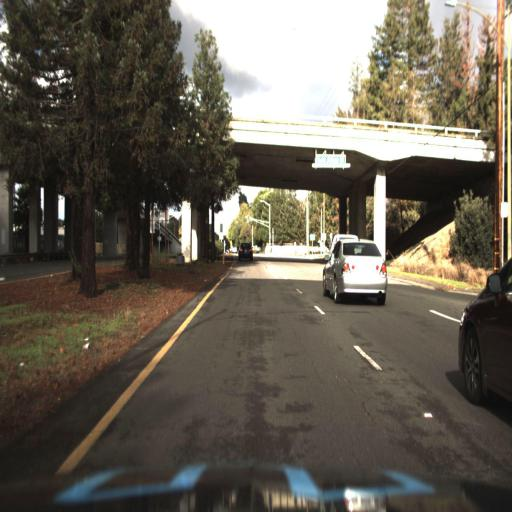car: (457, 241, 510, 413), (321, 234, 394, 298), (236, 237, 257, 265)
